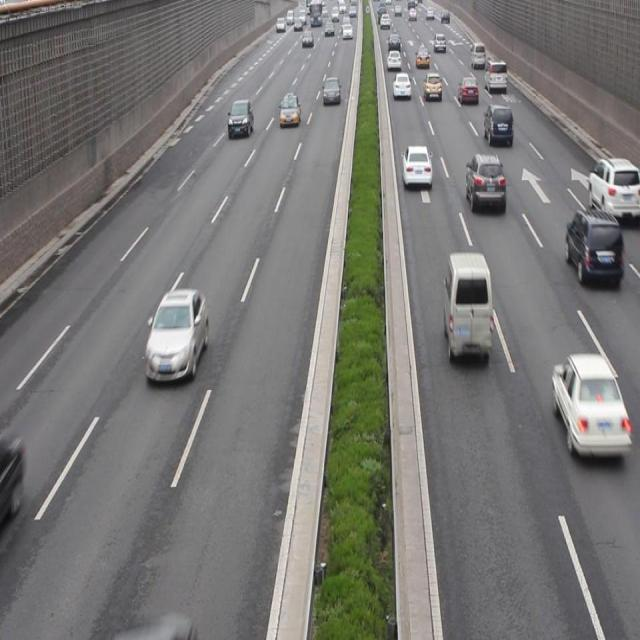car: (549, 349, 627, 463), (144, 290, 210, 383), (565, 208, 620, 286), (586, 155, 640, 226), (462, 153, 503, 212), (401, 146, 432, 190), (482, 103, 513, 145), (228, 98, 253, 143)
truck: (444, 249, 491, 361)
